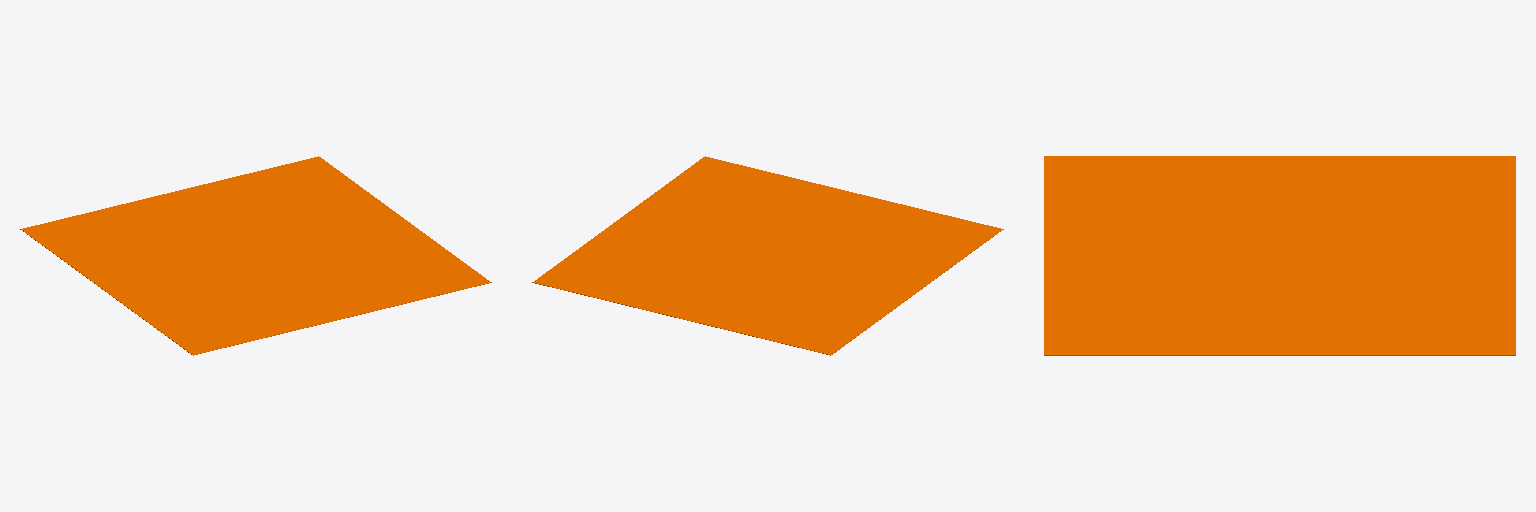
URDF robot description (plane):
<?xml version="0.0" ?>
<robot name="plane">
  <link name="planeLink">
  <contact>
      <lateral_friction value="1"/>
  </contact>
    <inertial>
      <origin rpy="0 0 0" xyz="0 0 0"/>
       <mass value=".0"/>
       <inertia ixx="0" ixy="0" ixz="0" iyy="0" iyz="0" izz="0"/>
    </inertial>
    <visual>
      <origin rpy="0 0 0" xyz="0 0 0"/>
      <geometry>
				<box size="8.5 8.5 0.01"/>
      </geometry>
       <material name="white">
        <color rgba="1 0.5 0 1"/>
      </material>
    </visual>
    <collision>
      <origin rpy="0 0 0" xyz="0 0 0"/>
      <geometry>
	 	<box size="8.5 8.5 0.1"/>
      </geometry>
    </collision>
  </link>
</robot>

--- What the picture shows (computed from the rendered views, not written in the file) ---
The picture shows the robot from 3 angles, left to right: view 1: azimuth 30°, elevation 25°; view 2: azimuth 150°, elevation 25°; view 3: azimuth 270°, elevation 25°; orthographic projection.
Robot: plane — 1 links, 0 joints (none); root link planeLink; default pose: all joints at 0.
Visible links, largest first — view 1: planeLink; view 2: planeLink; view 3: planeLink.
Boxes of the visible links, left/top/right/bottom form: planeLink: left=20, top=156, right=491, bottom=355; planeLink: left=532, top=156, right=1003, bottom=355; planeLink: left=1044, top=156, right=1515, bottom=355.
Size in the robot's own frame: 8.5 by 8.5 by 0.01 metres.
Geometry: primitives only (box / cylinder / sphere), no mesh files.
